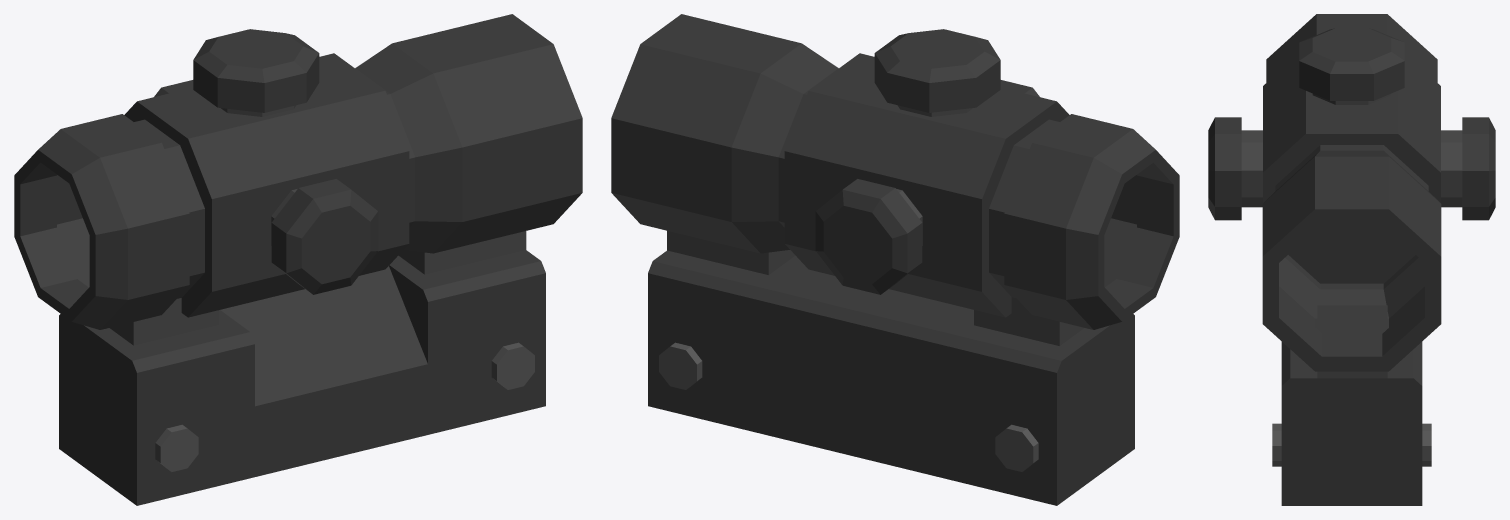
Rendered from Optic_05.fbx.
3 renders of one model, left to right at view 1: azimuth 30°, elevation 25°; view 2: azimuth 150°, elevation 25°; view 3: azimuth 270°, elevation 25°, orthographic. The views are drawn at different scales.
Visible parts, largest first — view 1: Optic_05; view 2: Optic_05; view 3: Optic_05.
Boxes of the visible parts, x1,y1,x2,y2 form: Optic_05: (14,14,582,505); Optic_05: (611,14,1179,505); Optic_05: (1208,14,1495,505).
Size of the model in its own units: 0.0927 by 0.0722 by 0.0536.
